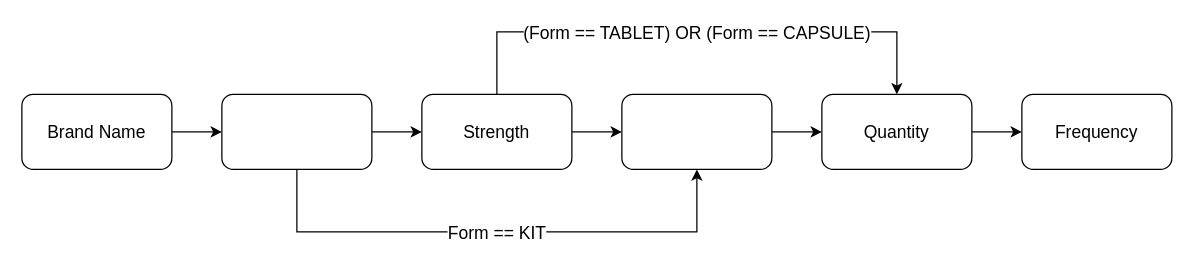
Image size: 1194x264. Some labels were removed from this diagram. Here are the shapes that lost their labels. From the top down, the centre of each, then its label:
(x=296, y=131): Form
(x=696, y=131): Packaging
